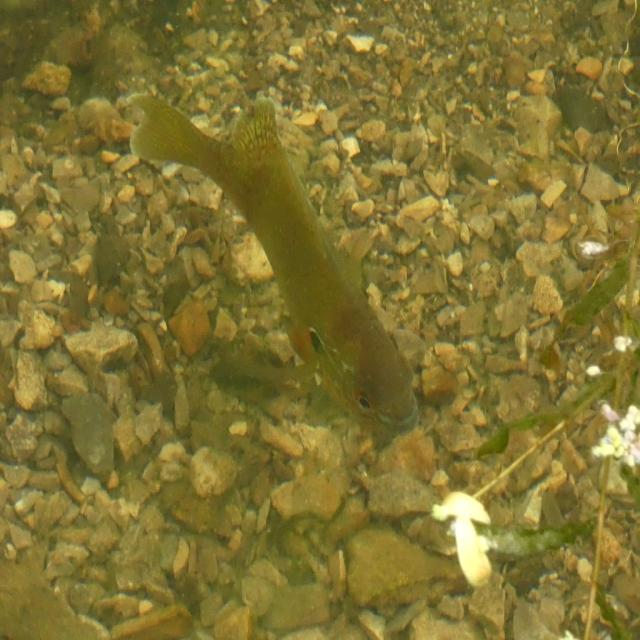Gunes Levregi: (124, 89, 420, 444)
